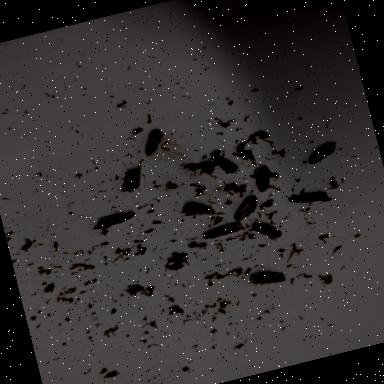pbw: (177, 194, 221, 226), (130, 126, 166, 162), (244, 264, 290, 292), (88, 205, 134, 232), (206, 146, 244, 178), (112, 165, 148, 198), (200, 218, 243, 244), (247, 215, 288, 242), (246, 162, 280, 194), (288, 187, 328, 213), (303, 138, 339, 166), (228, 196, 262, 224)
